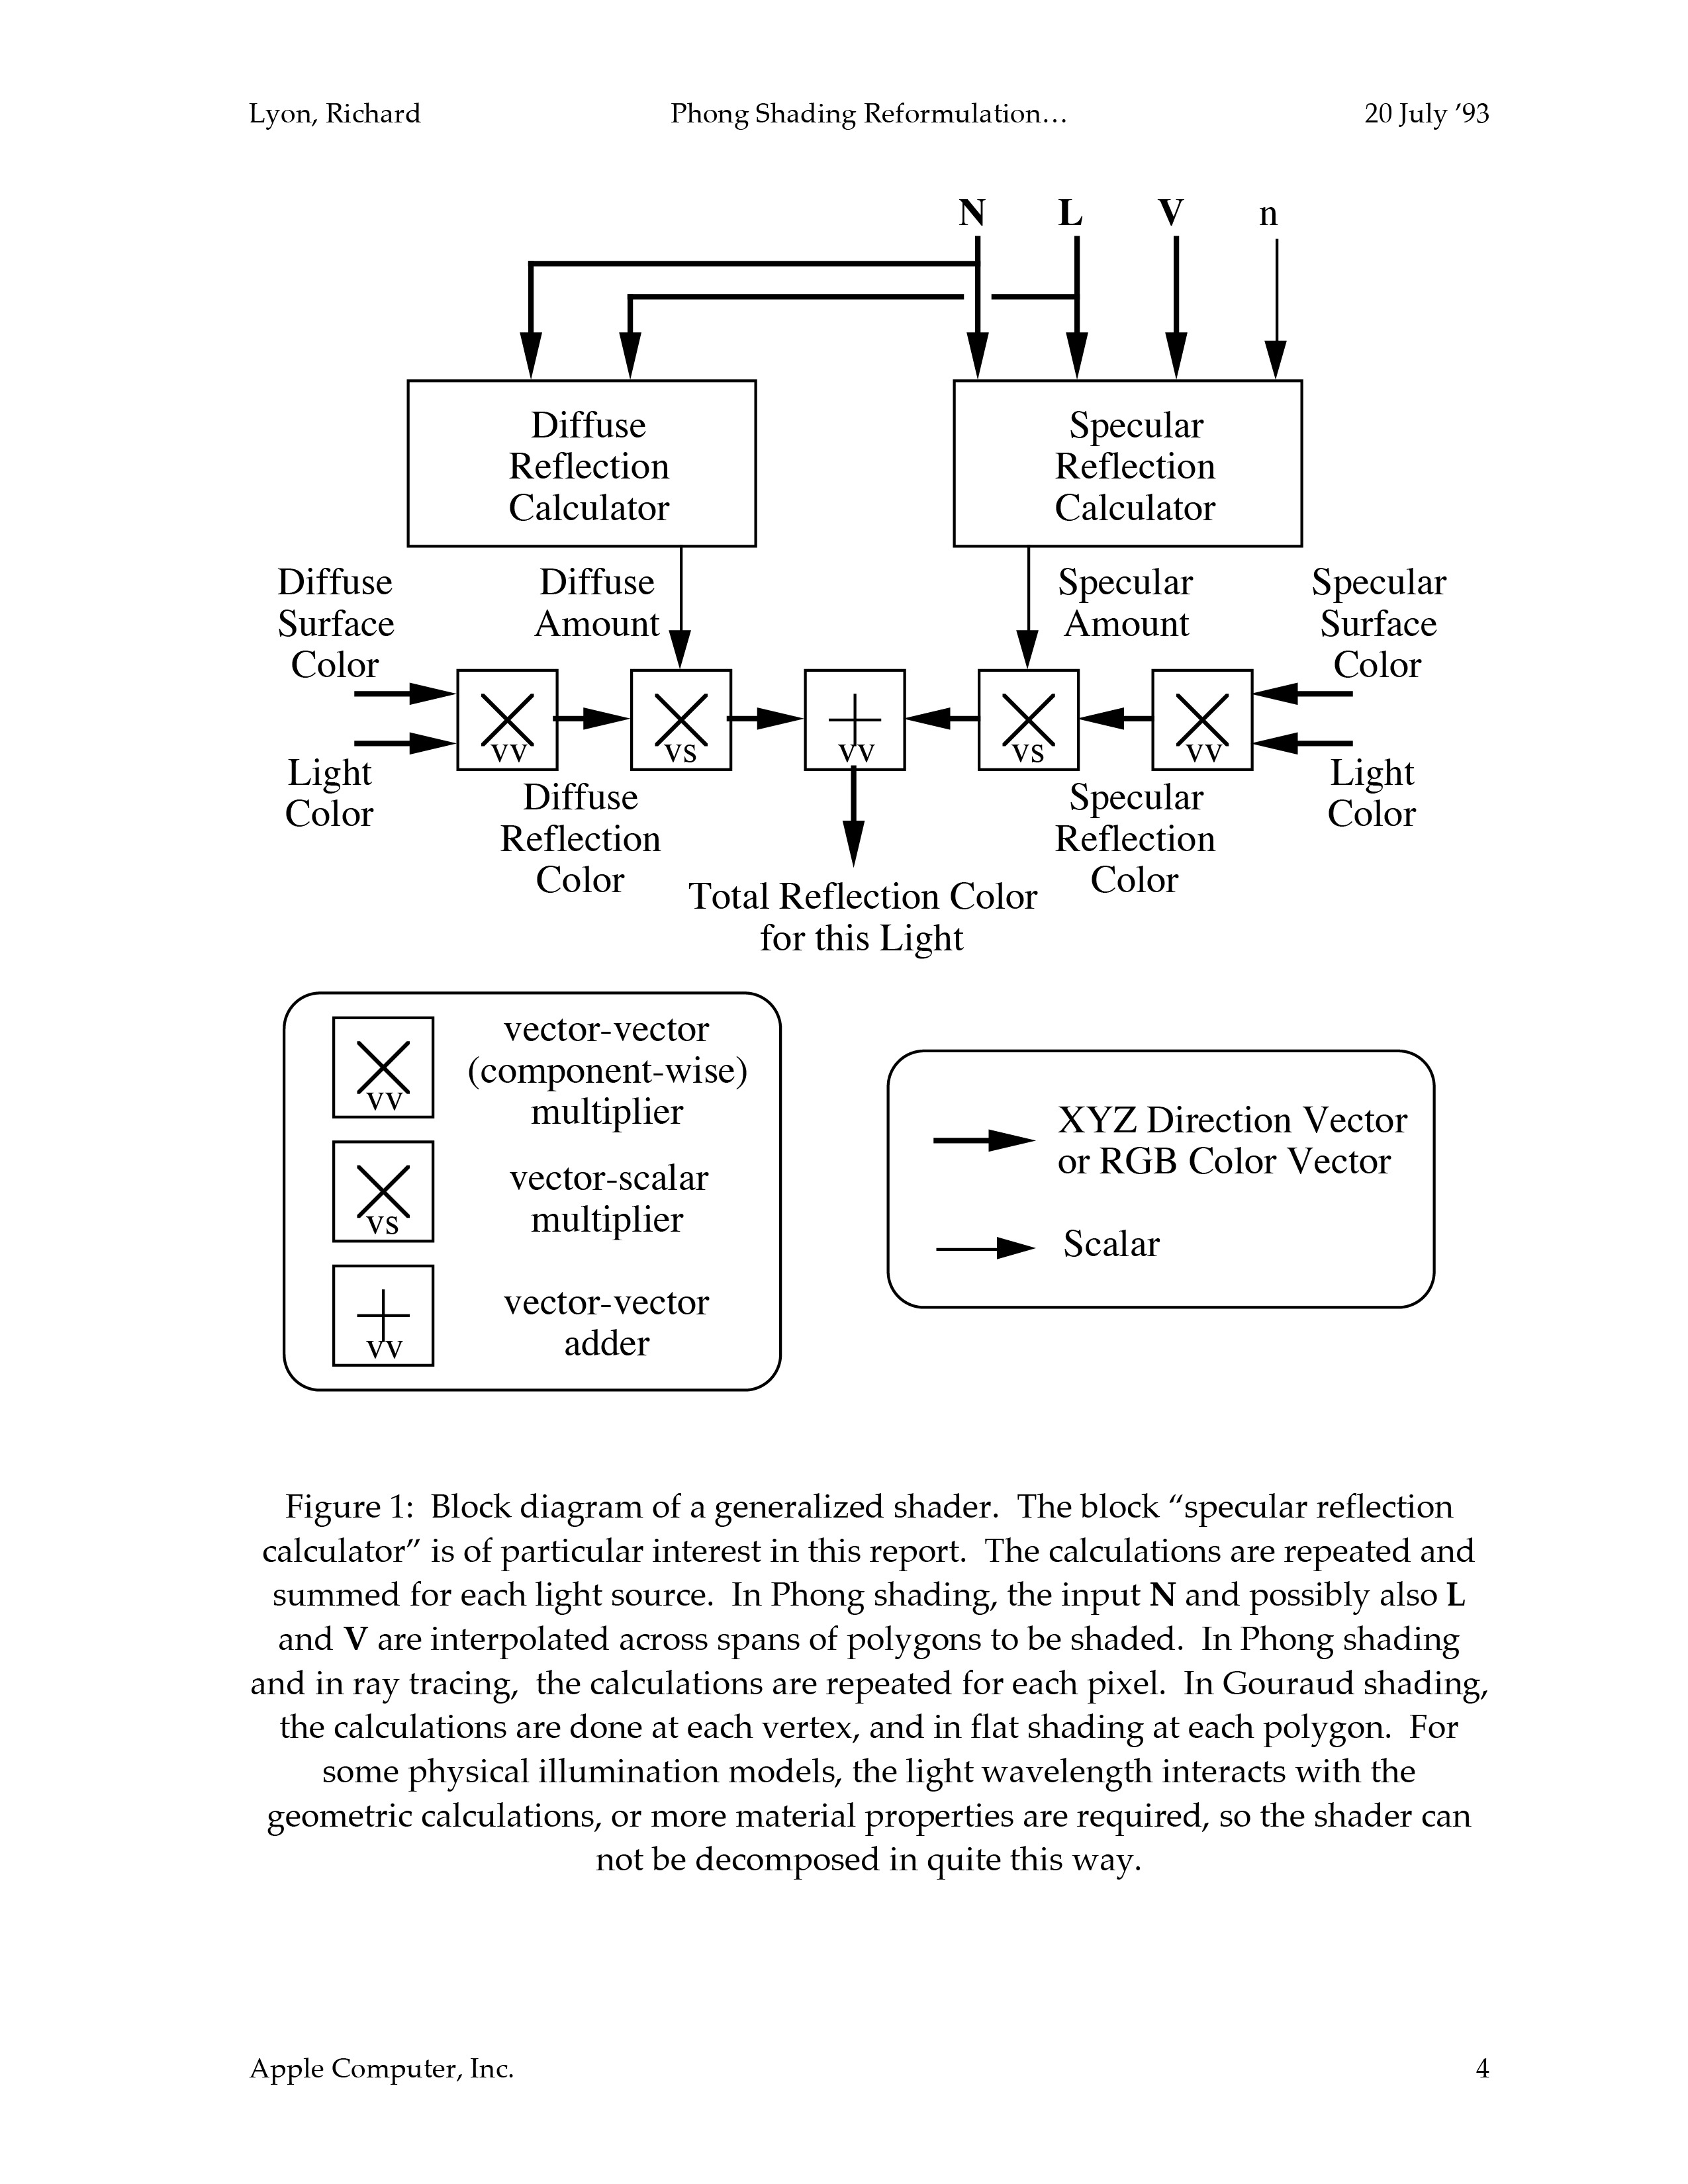figure: (287, 193, 1479, 979), (326, 989, 436, 1383)
text: (231, 1471, 1482, 1626), (231, 1631, 1516, 1767), (246, 1778, 1505, 1881), (1050, 1096, 1415, 1198), (456, 1019, 762, 1131), (496, 1145, 736, 1228), (489, 1285, 727, 1361), (1055, 1209, 1172, 1289)
